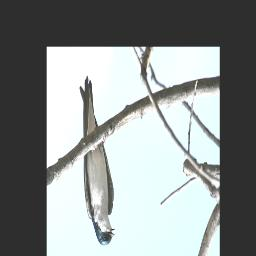Swallow: (80, 76, 116, 245)
